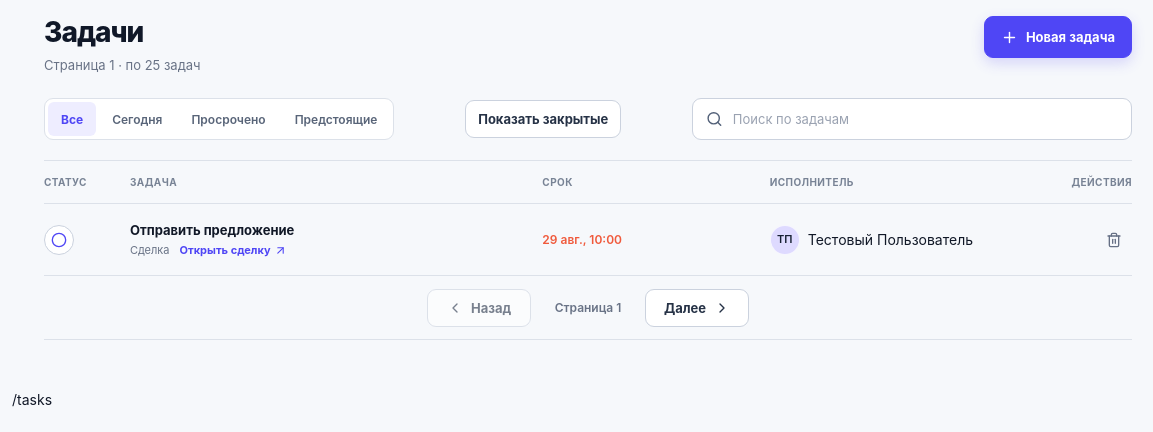
Test: TasksPage › paginates by cursor and resets to the first page when completed tasks are shown
Expected: the text "Отправить предложение" is shown, [130,222,294,238]
Click the button with aria-label "Следующая страница" at (697, 308), box [645,289,749,327]
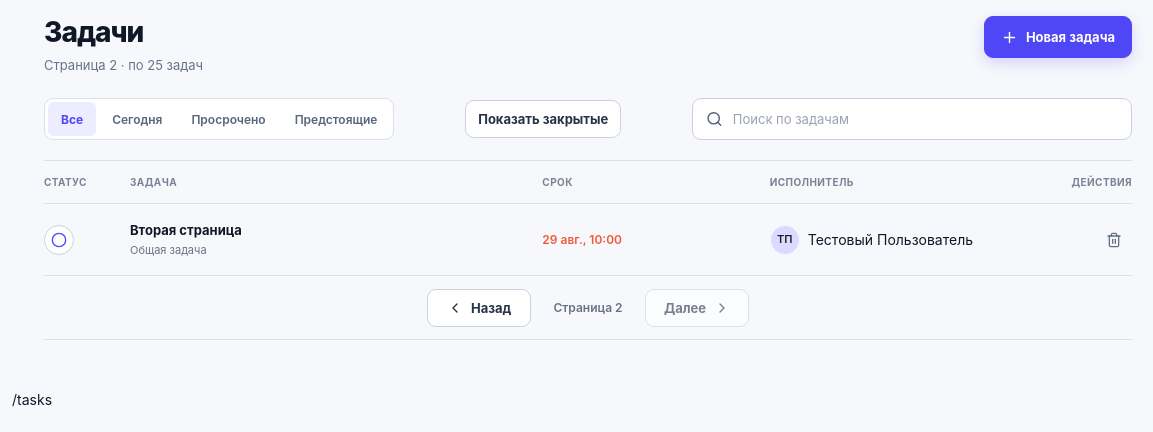
Now the text "Вторая страница" is shown, box [130,222,242,238]
Now the text "Страница 2" is shown, box [553,300,622,315]
Click the button "Показать закрытые" at (543, 119), box [465,100,621,138]
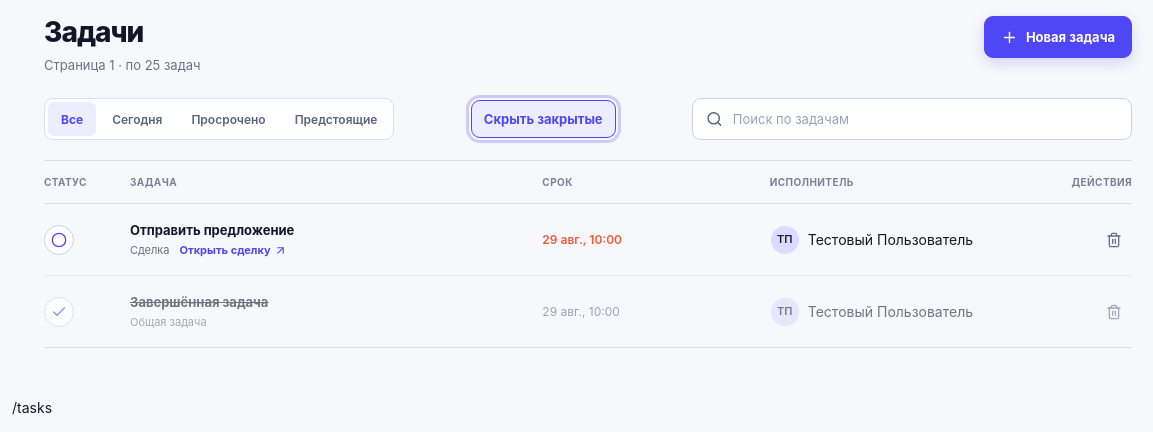
Now the text "Завершённая задача" is shown, box [130,294,268,310]
Now the text "Страница 1 · по 25 задач" is shown, box [44,56,200,74]
Click the button "Скрыть закрытые" at (543, 119), box [471,100,616,138]
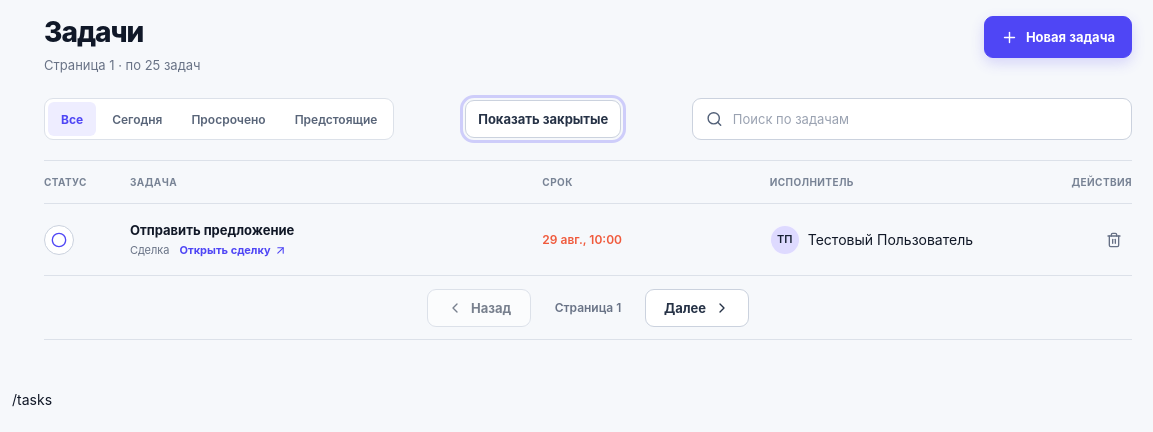
Now the text "Завершённая задача" is gone
